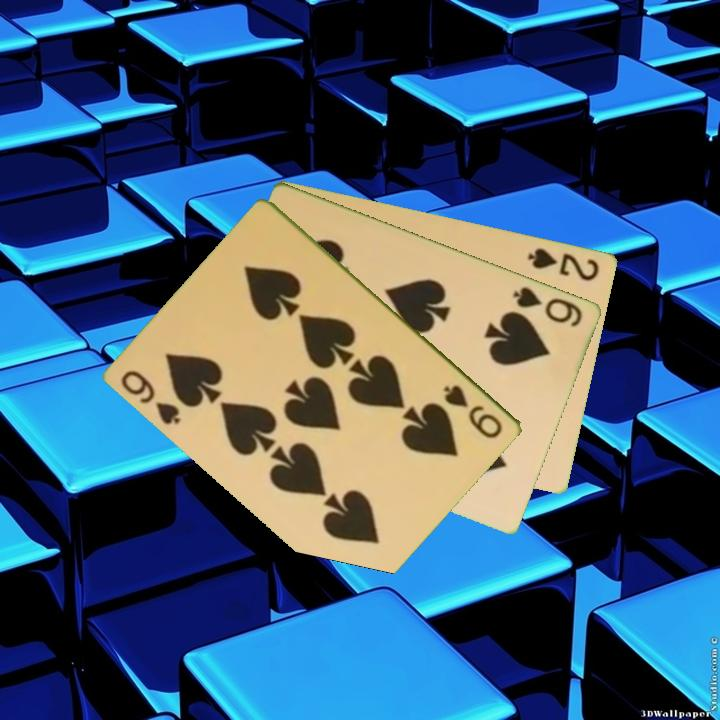2s: (524, 244, 603, 284)
6s: (510, 283, 586, 330)
9s: (118, 366, 185, 428), (440, 381, 506, 442)
